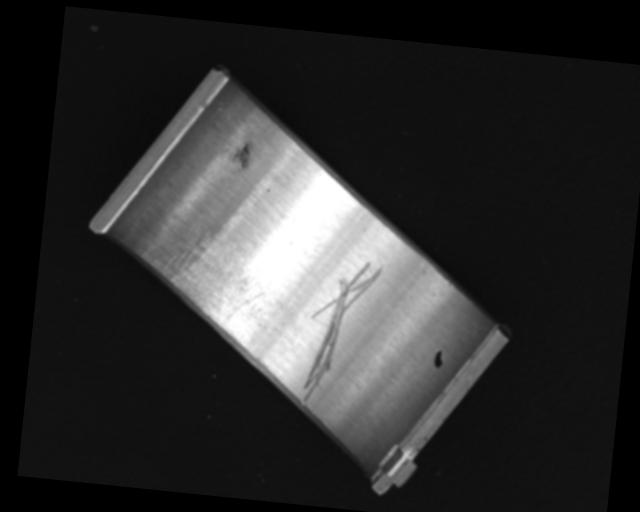blot: (432, 348, 445, 371)
bruise: (231, 141, 253, 172)
nick: (300, 256, 384, 418)
scratch: (137, 223, 280, 332)
